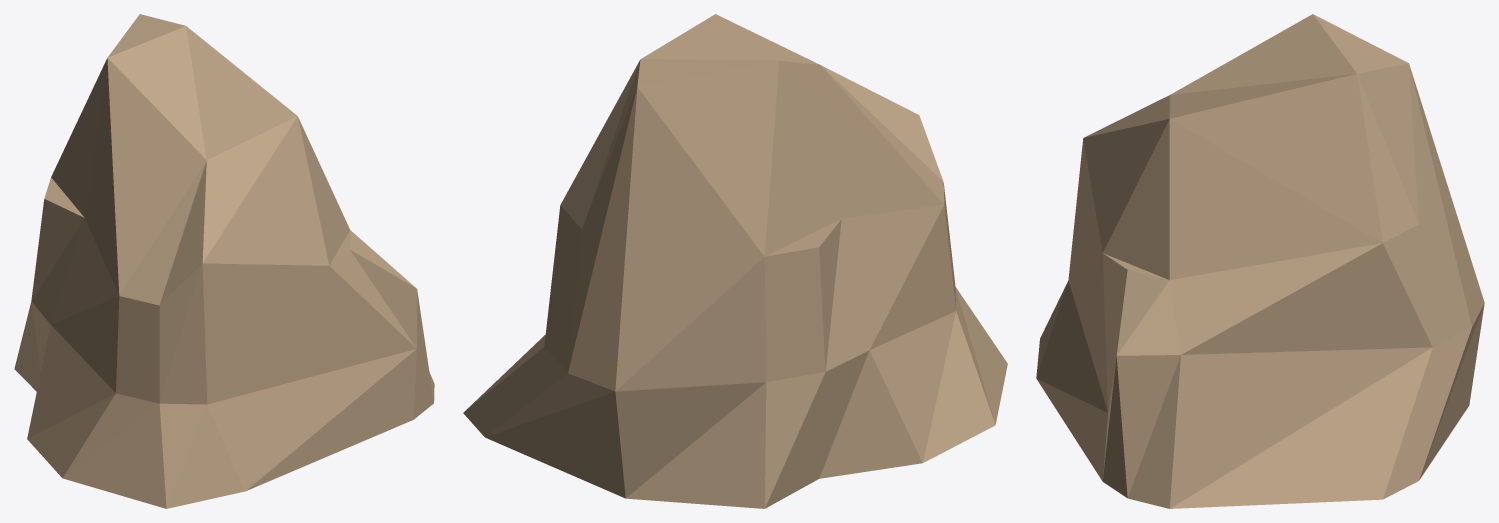
The model's file is rock_24.FBX.
3 views of the same model, side by side, from view 1: azimuth 30°, elevation 25°; view 2: azimuth 150°, elevation 25°; view 3: azimuth 270°, elevation 25° (orthographic). The views are drawn at different scales.
Parts seen in each view (by area): view 1: rock_24; view 2: rock_24; view 3: rock_24.
Boxes of the visible parts, <box> form: rock_24: <box>14,14,434,508</box>; rock_24: <box>463,14,1007,508</box>; rock_24: <box>1036,14,1484,508</box>.
Size of the model in its own units: 407 by 352 by 396.
